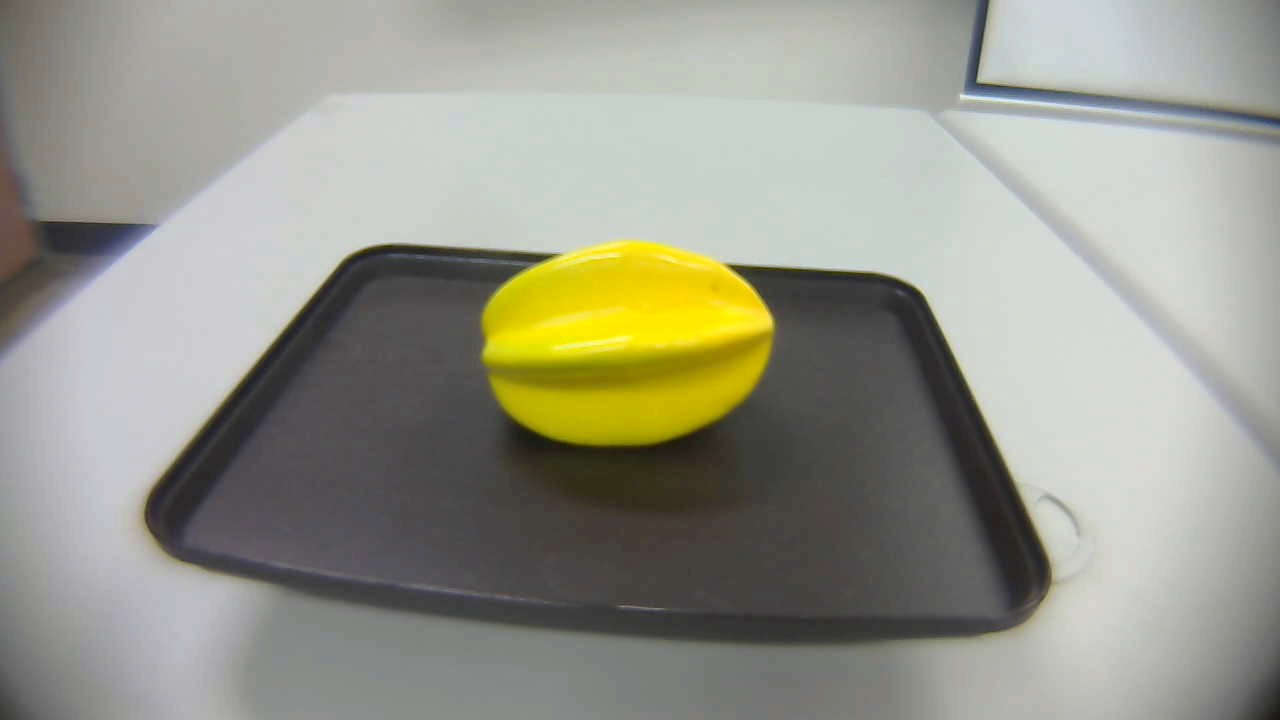star fruit: (470, 238, 793, 453)
